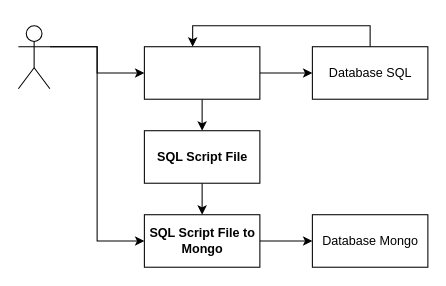
The diagram is 446 pixels wide and 286 high, and some of its shapes have lost their labels. Here are the shapes that lost their labels. From the top down, the centre of each, then its label:
point 33,57: Actor
point 201,72: Extract SQL Script
